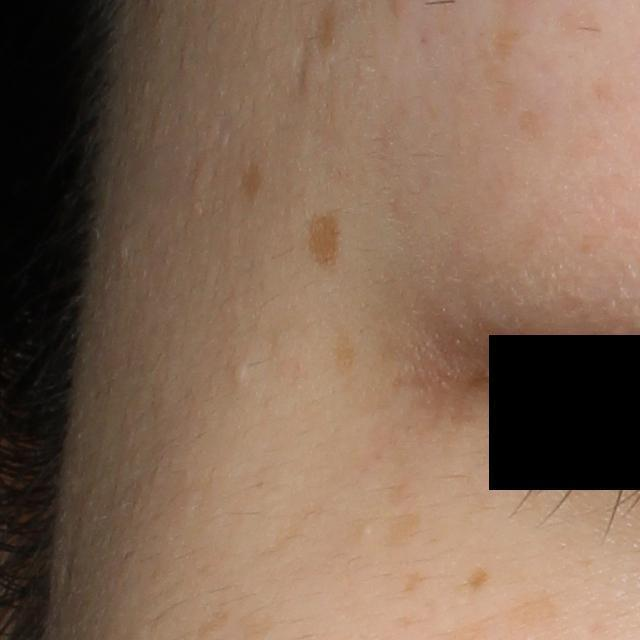comedo: (228, 358, 248, 383)
melasma: (302, 209, 335, 276), (380, 507, 420, 553), (325, 327, 359, 377), (459, 562, 492, 595), (242, 161, 264, 201)
